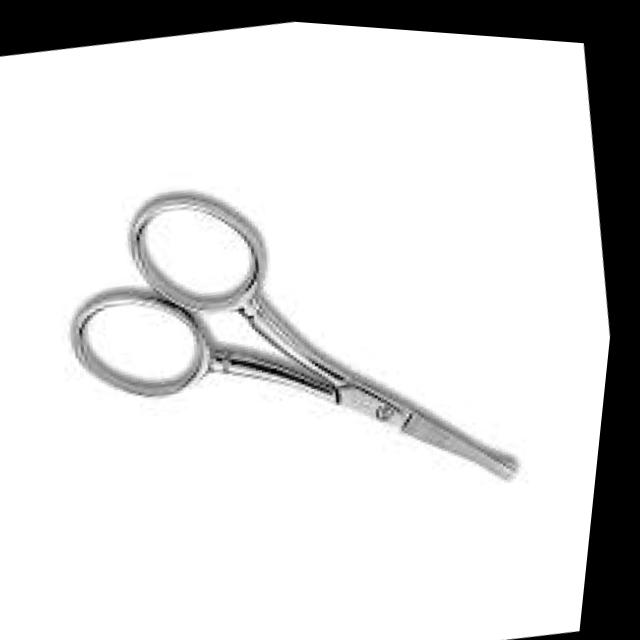scissor: (30, 123, 558, 561)
